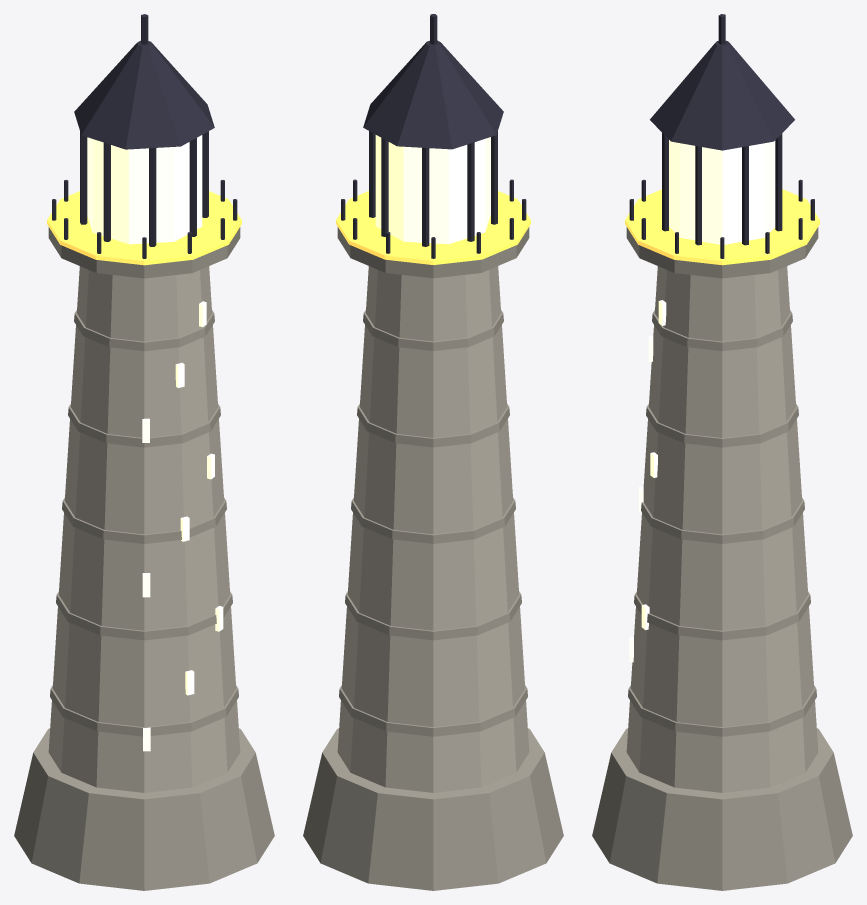
File: hearthspire_far_lit.glb
The picture shows the model from 3 angles, left to right: view 1: azimuth 30°, elevation 25°; view 2: azimuth 150°, elevation 25°; view 3: azimuth 270°, elevation 25°; orthographic projection.
Visible parts, largest first — view 1: bone_d12, bone_d25, ink_l12, kindle_l10_glow, ember_d20_glow; view 2: bone_d12, bone_d25, ink_l12, kindle_l10_glow, ember_d20_glow; view 3: bone_d12, bone_d25, ink_l12, kindle_l10_glow, ember_d20_glow.
Boxes of the visible parts, x1=… form: bone_d12: x1=48, y1=266, x2=240, y2=792; bone_d25: x1=14, y1=227, x2=274, y2=890; ink_l12: x1=52, y1=14, x2=237, y2=258; kindle_l10_glow: x1=87, y1=135, x2=223, y2=751; ember_d20_glow: x1=47, y1=191, x2=241, y2=265; bone_d12: x1=337, y1=266, x2=529, y2=792; bone_d25: x1=303, y1=227, x2=563, y2=890; ink_l12: x1=341, y1=14, x2=526, y2=258; kindle_l10_glow: x1=375, y1=135, x2=490, y2=244; ember_d20_glow: x1=336, y1=191, x2=530, y2=264; bone_d12: x1=626, y1=266, x2=818, y2=792; bone_d25: x1=592, y1=227, x2=852, y2=890; ink_l12: x1=629, y1=14, x2=814, y2=258; kindle_l10_glow: x1=629, y1=140, x2=775, y2=662; ember_d20_glow: x1=625, y1=189, x2=819, y2=265.
Bounding box in the file's own units: 3.4 × 11.8 × 3.4.
